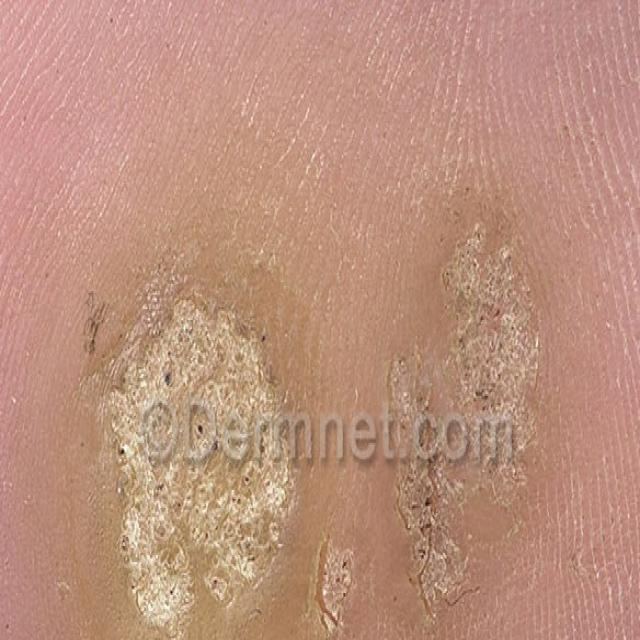Warts: (56, 229, 354, 640), (374, 186, 573, 640)
